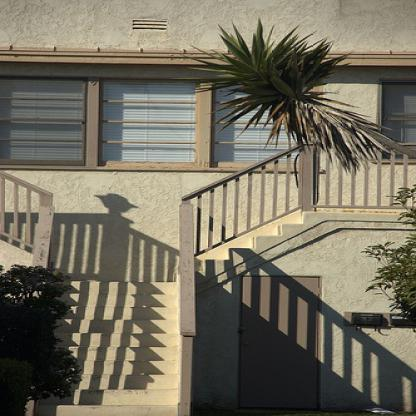stairs: (75, 294, 175, 415)
